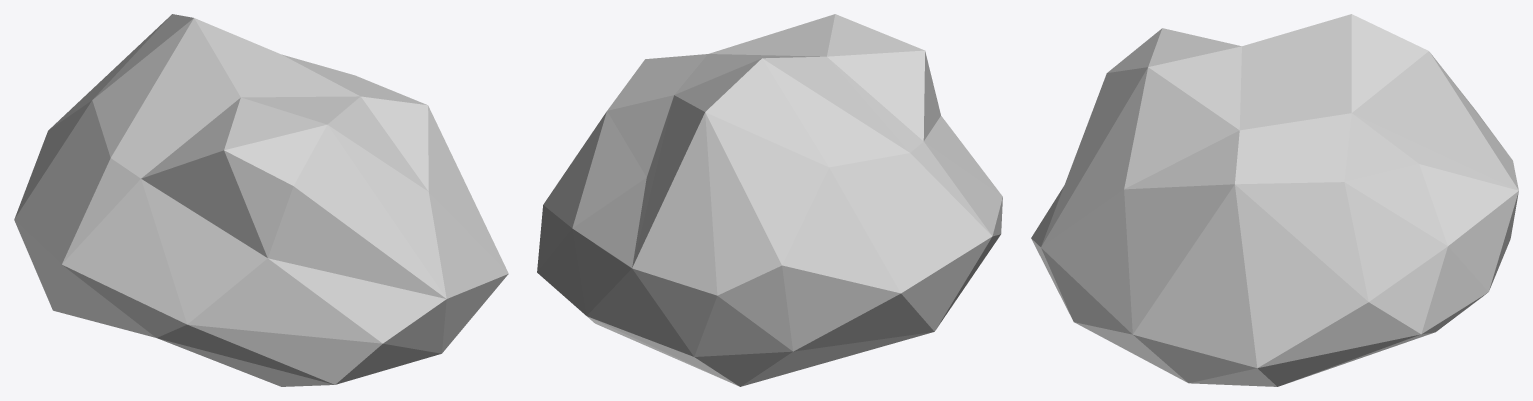
The model's file is Rock 2.fbx.
The picture shows the model from 3 angles, left to right: view 1: azimuth 30°, elevation 25°; view 2: azimuth 150°, elevation 25°; view 3: azimuth 270°, elevation 25°; orthographic projection. The views are drawn at different scales.
Visible parts, largest first — view 1: Rock 2; view 2: Rock 2; view 3: Rock 2.
Part boxes in pixels (left/top/right/bottom): Rock 2: left=14, top=14, right=508, bottom=386; Rock 2: left=537, top=14, right=1002, bottom=386; Rock 2: left=1031, top=14, right=1518, bottom=386.
Size of the model in its own units: 69.21 by 45.35 by 69.91.
